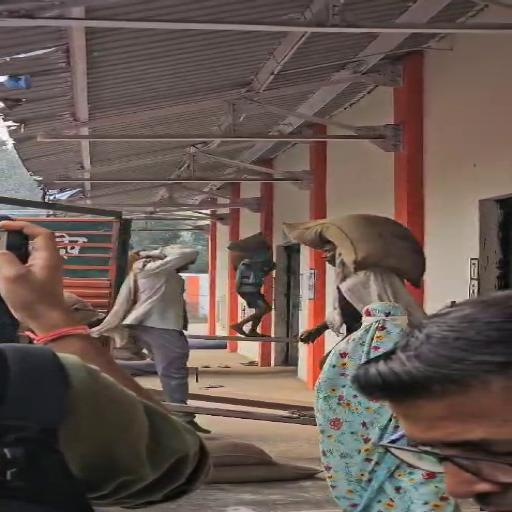bag: (277, 209, 435, 285)
